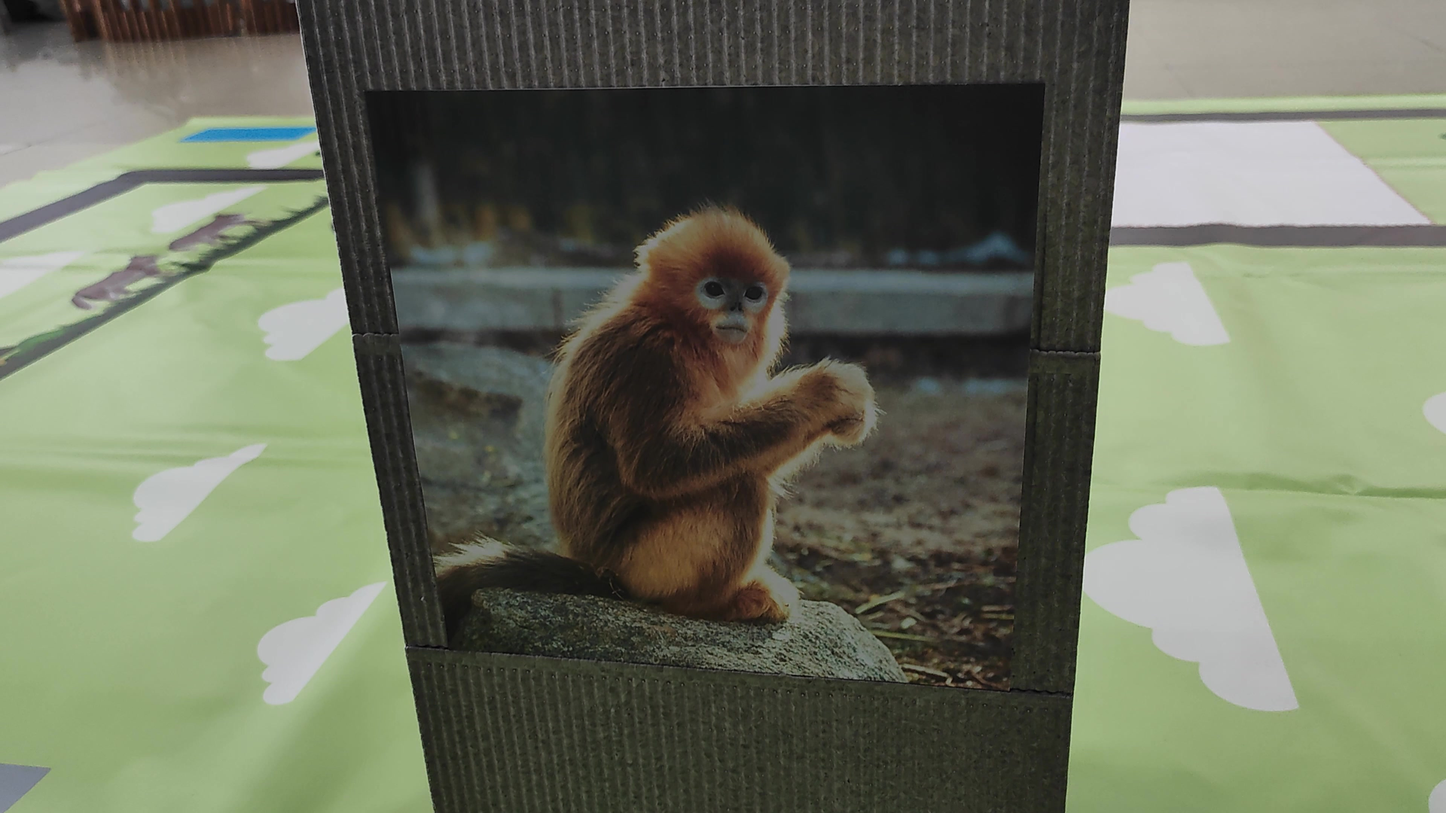monkey: (440, 170, 885, 657)
